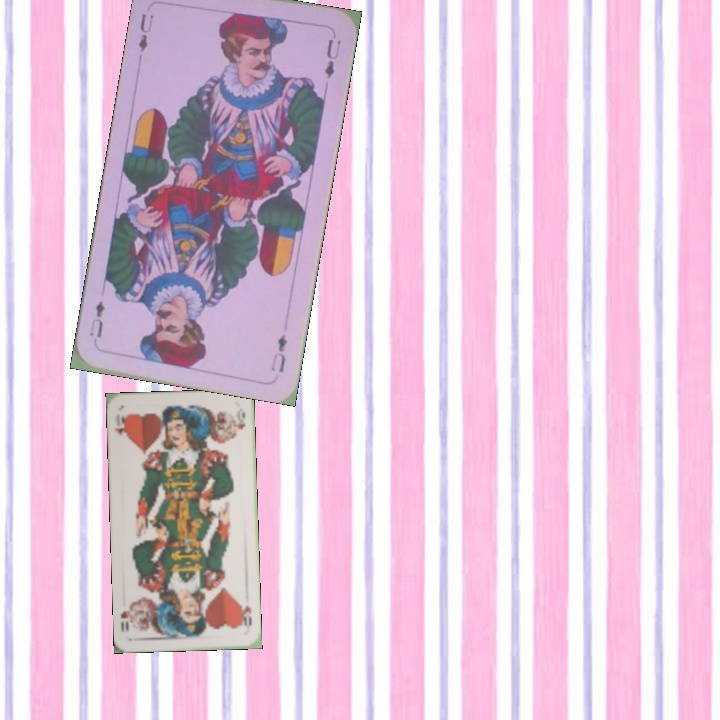EU: (134, 10, 157, 59), (267, 330, 289, 375)
HO: (110, 410, 130, 439), (236, 600, 254, 628)
